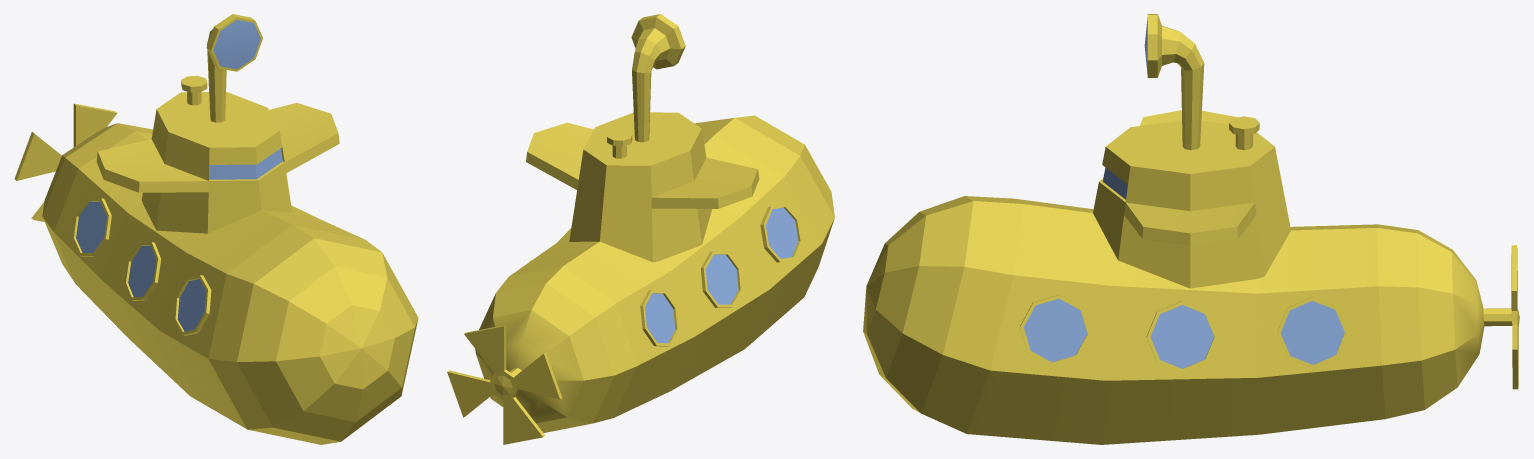
3 views of the same model, side by side, from view 1: azimuth 30°, elevation 25°; view 2: azimuth 150°, elevation 25°; view 3: azimuth 270°, elevation 25° (orthographic). The views are drawn at different scales.
Visible parts, largest first — view 1: Sub; view 2: Sub; view 3: Sub.
Part boxes in pixels (x1,y1,x2,y2): Sub: (14, 14, 418, 444); Sub: (447, 14, 834, 444); Sub: (863, 14, 1519, 444).
Size of the model in its own units: 176 by 276 by 387.
